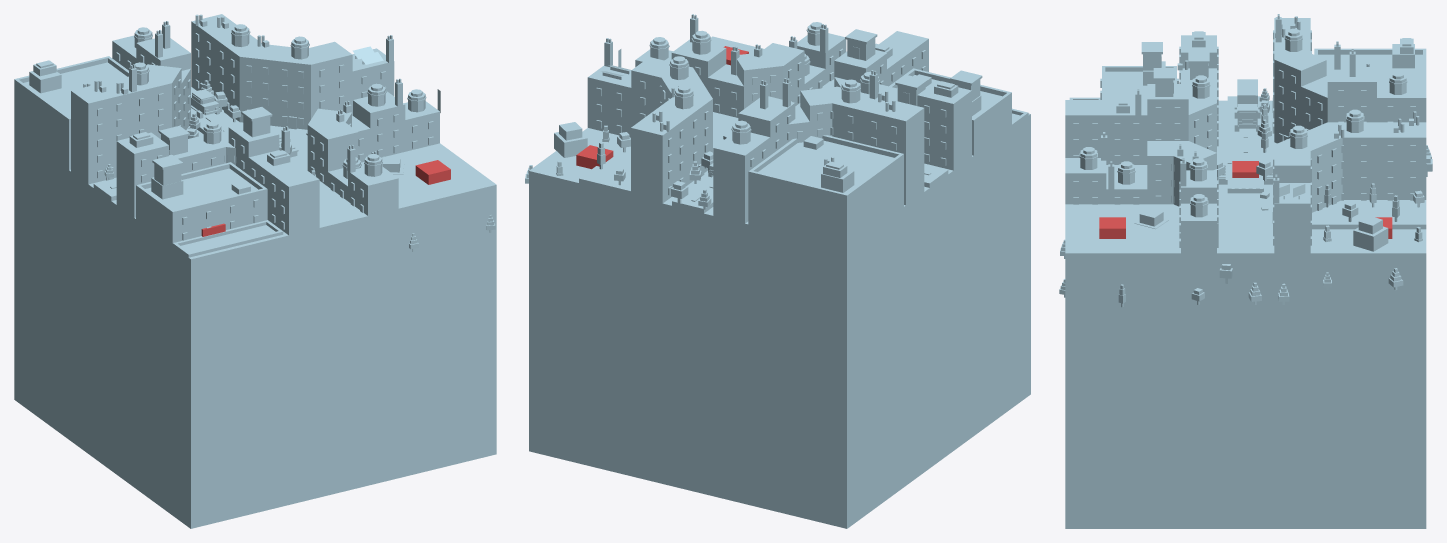
File: block_18_sewersystem_100.glb
The picture shows the model from 3 angles, left to right: view 1: azimuth 30°, elevation 25°; view 2: azimuth 150°, elevation 25°; view 3: azimuth 270°, elevation 25°; orthographic projection. The views are drawn at different scales.
Visible parts, largest first — view 1: Patch_MidRight_b17_SL, Cerda_MidRight_b17_SL, Insets_MidRight_b17_SL, CerdaRoofProps_MidRight_b17_SL, Roads_MidRight_b17_SL, SL_Net_18, Asset_Car.038_SL; view 2: Patch_MidRight_b17_SL, Cerda_MidRight_b17_SL, Insets_MidRight_b17_SL, CerdaRoofProps_MidRight_b17_SL, Green_MidRight_b17_SL, Roads_MidRight_b17_SL, Asset_Tree_Round.064_SL, SL_Net_18; view 3: Patch_MidRight_b17_SL, Cerda_MidRight_b17_SL, CerdaRoofProps_MidRight_b17_SL, Insets_MidRight_b17_SL, Green_MidRight_b17_SL, Roads_MidRight_b17_SL, SL_Net_18, Asset_Truck.010_SL, Asset_Tree_Round.064_SL, Zebra_MidRight_b17_SL, Asset_Tree_Round.070_SL.
Boxes of the visible parts, <box> form: Patch_MidRight_b17_SL: <box>14,87,496,528</box>; Cerda_MidRight_b17_SL: <box>71,14,439,266</box>; Insets_MidRight_b17_SL: <box>14,56,283,274</box>; CerdaRoofProps_MidRight_b17_SL: <box>33,14,440,185</box>; Roads_MidRight_b17_SL: <box>93,91,358,258</box>; SL_Net_18: <box>201,160,450,236</box>; Asset_Car.038_SL: <box>191,89,219,118</box>; Patch_MidRight_b17_SL: <box>529,36,1030,528</box>; Cerda_MidRight_b17_SL: <box>587,31,971,223</box>; Insets_MidRight_b17_SL: <box>748,68,1028,248</box>; CerdaRoofProps_MidRight_b17_SL: <box>601,14,982,177</box>; Green_MidRight_b17_SL: <box>529,146,645,208</box>; Roads_MidRight_b17_SL: <box>672,164,948,213</box>; Asset_Tree_Round.064_SL: <box>554,122,587,157</box>; SL_Net_18: <box>576,46,748,169</box>; Patch_MidRight_b17_SL: <box>1065,100,1426,528</box>; Cerda_MidRight_b17_SL: <box>1065,18,1426,287</box>; CerdaRoofProps_MidRight_b17_SL: <box>1079,14,1419,245</box>; Insets_MidRight_b17_SL: <box>1069,44,1426,99</box>; Green_MidRight_b17_SL: <box>1065,200,1426,304</box>; Roads_MidRight_b17_SL: <box>1218,96,1272,287</box>; SL_Net_18: <box>1099,161,1392,238</box>; Asset_Truck.010_SL: <box>1234,79,1260,131</box>; Asset_Tree_Round.064_SL: <box>1353,215,1388,251</box>; Zebra_MidRight_b17_SL: <box>1219,154,1273,189</box>; Asset_Tree_Round.070_SL: <box>1134,208,1168,228</box>.
Bounding box in the file's own units: 10.09 × 11.16 × 9.82.
